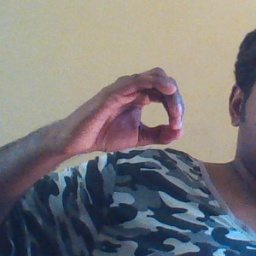O: (60, 63, 186, 159)
